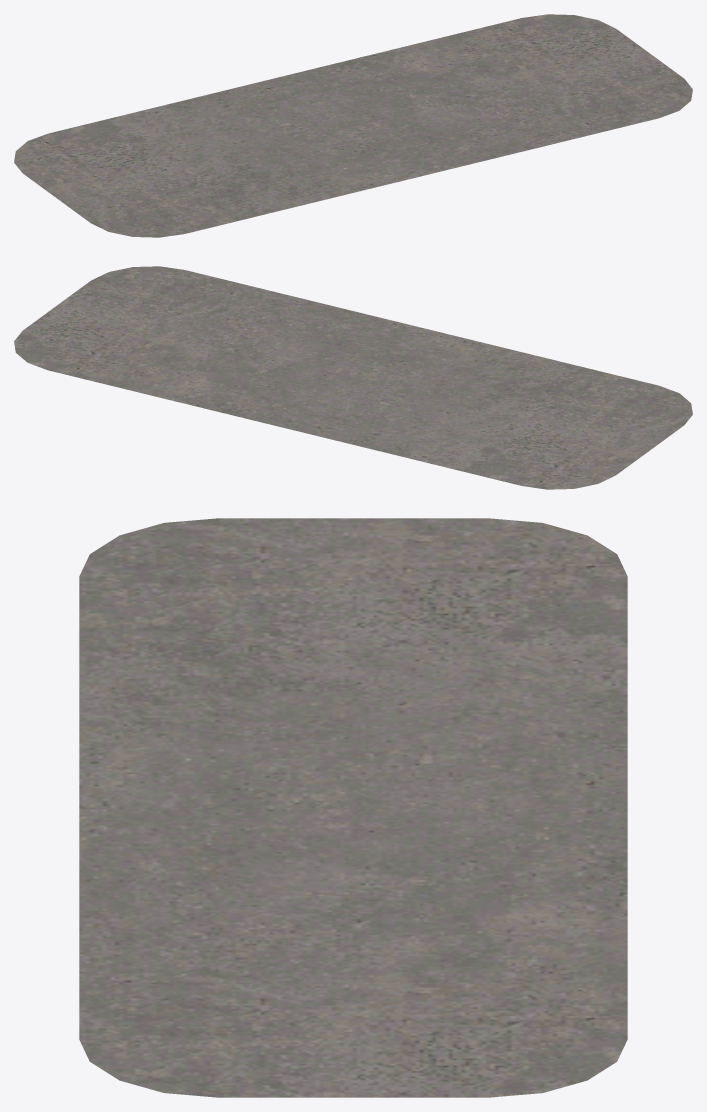
The model's file is pavement_corner_round_out_small003_concretefloors0041_5_m_dull_.glb.
3 views of the same model, one above another, from view 1: azimuth 30°, elevation 25°; view 2: azimuth 150°, elevation 25°; view 3: azimuth 270°, elevation 25° (orthographic). The views are drawn at different scales.
Visible parts, largest first — view 1: pavement_corner_round_out_small003_concretefloors0041_5_m_du; view 2: pavement_corner_round_out_small003_concretefloors0041_5_m_du; view 3: pavement_corner_round_out_small003_concretefloors0041_5_m_du.
Boxes of the visible parts, bbox=[...] form: pavement_corner_round_out_small003_concretefloors0041_5_m_du: bbox=[14, 14, 692, 237]; pavement_corner_round_out_small003_concretefloors0041_5_m_du: bbox=[14, 266, 692, 489]; pavement_corner_round_out_small003_concretefloors0041_5_m_du: bbox=[79, 518, 627, 1097].
Bounding box in the file's own units: 1.71 × 4.05e-07 × 0.6859.
Materials: 1 (1 with a texture image).
